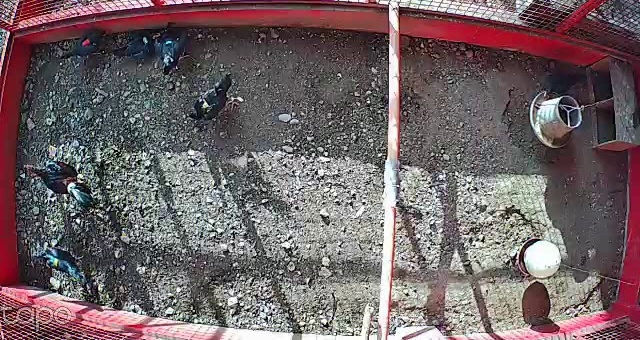Chicken: (184, 73, 244, 127), (113, 18, 180, 65), (30, 246, 93, 295), (55, 25, 112, 69), (151, 21, 193, 75)
Rooster: (17, 153, 99, 212)
Saddle_Color_Blue: (165, 40, 174, 45)
Saddle_Color_Red: (81, 37, 91, 47)
Saddle_Color_Yellow: (200, 98, 212, 112)
Saddle_Color_YellowGreen: (48, 255, 60, 268)
